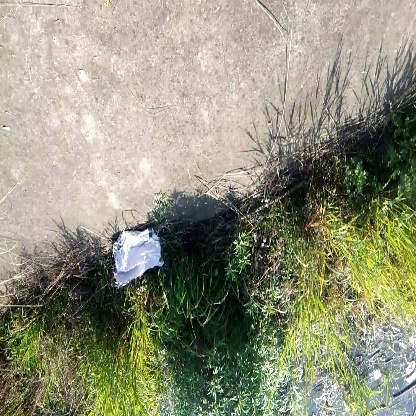milk-box: (104, 219, 171, 287)
